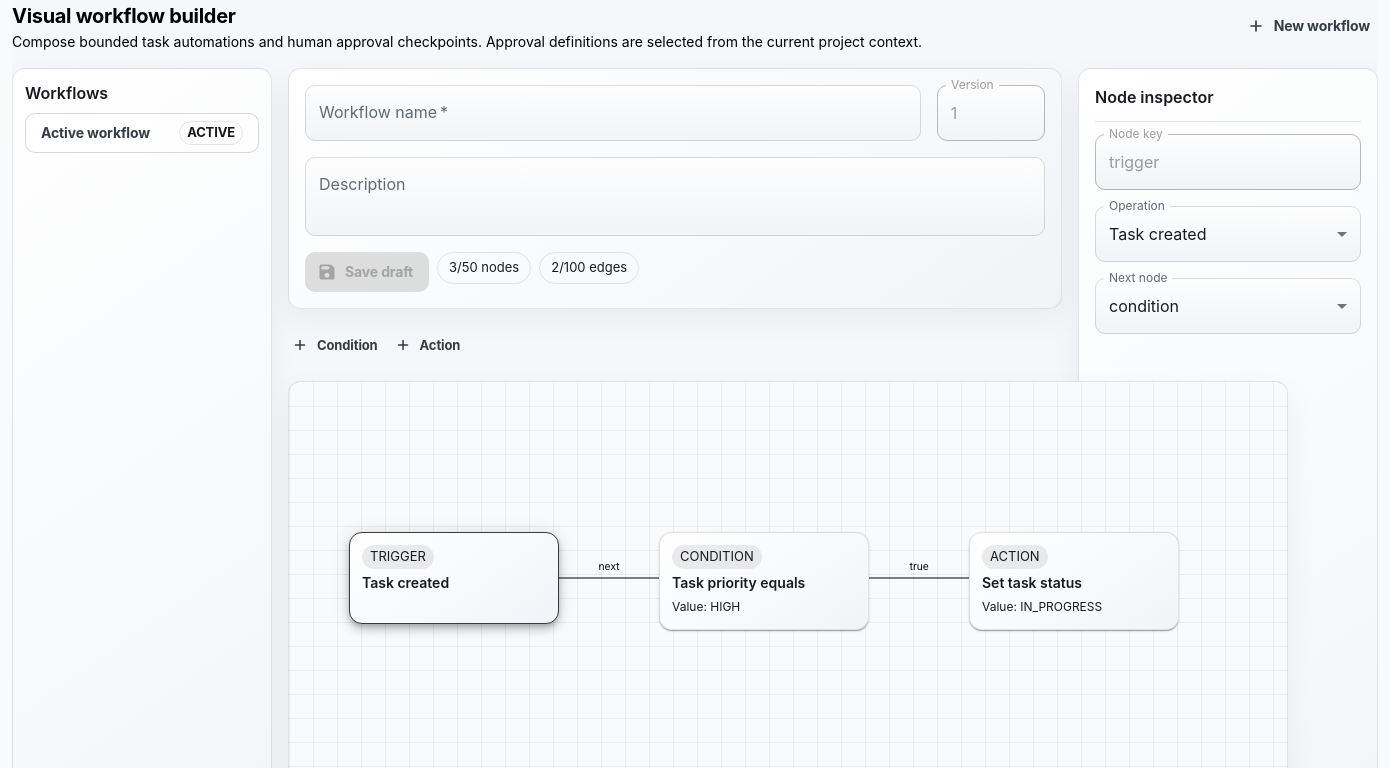
Test: WorkflowBuilderPanel › keeps active workflows read-only until they are paused
Click the button "Active workflow ACTIVE".
click(142, 133)  # box [25,113,259,153]
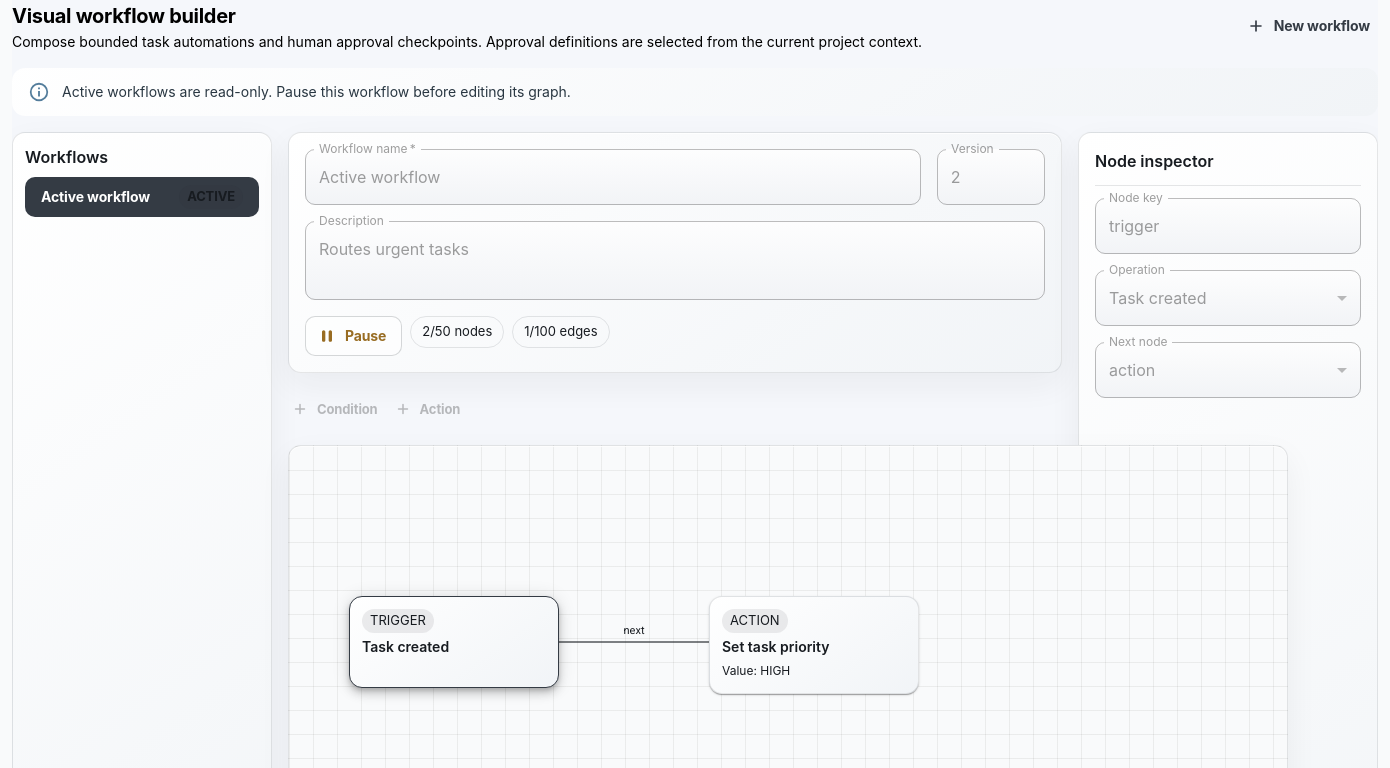
Now the button "Save draft" is gone
Now the button "Pause" is shown, box [305,316,402,356]
Now the field labelled "Workflow name *" is disabled, box [305,149,921,205]
